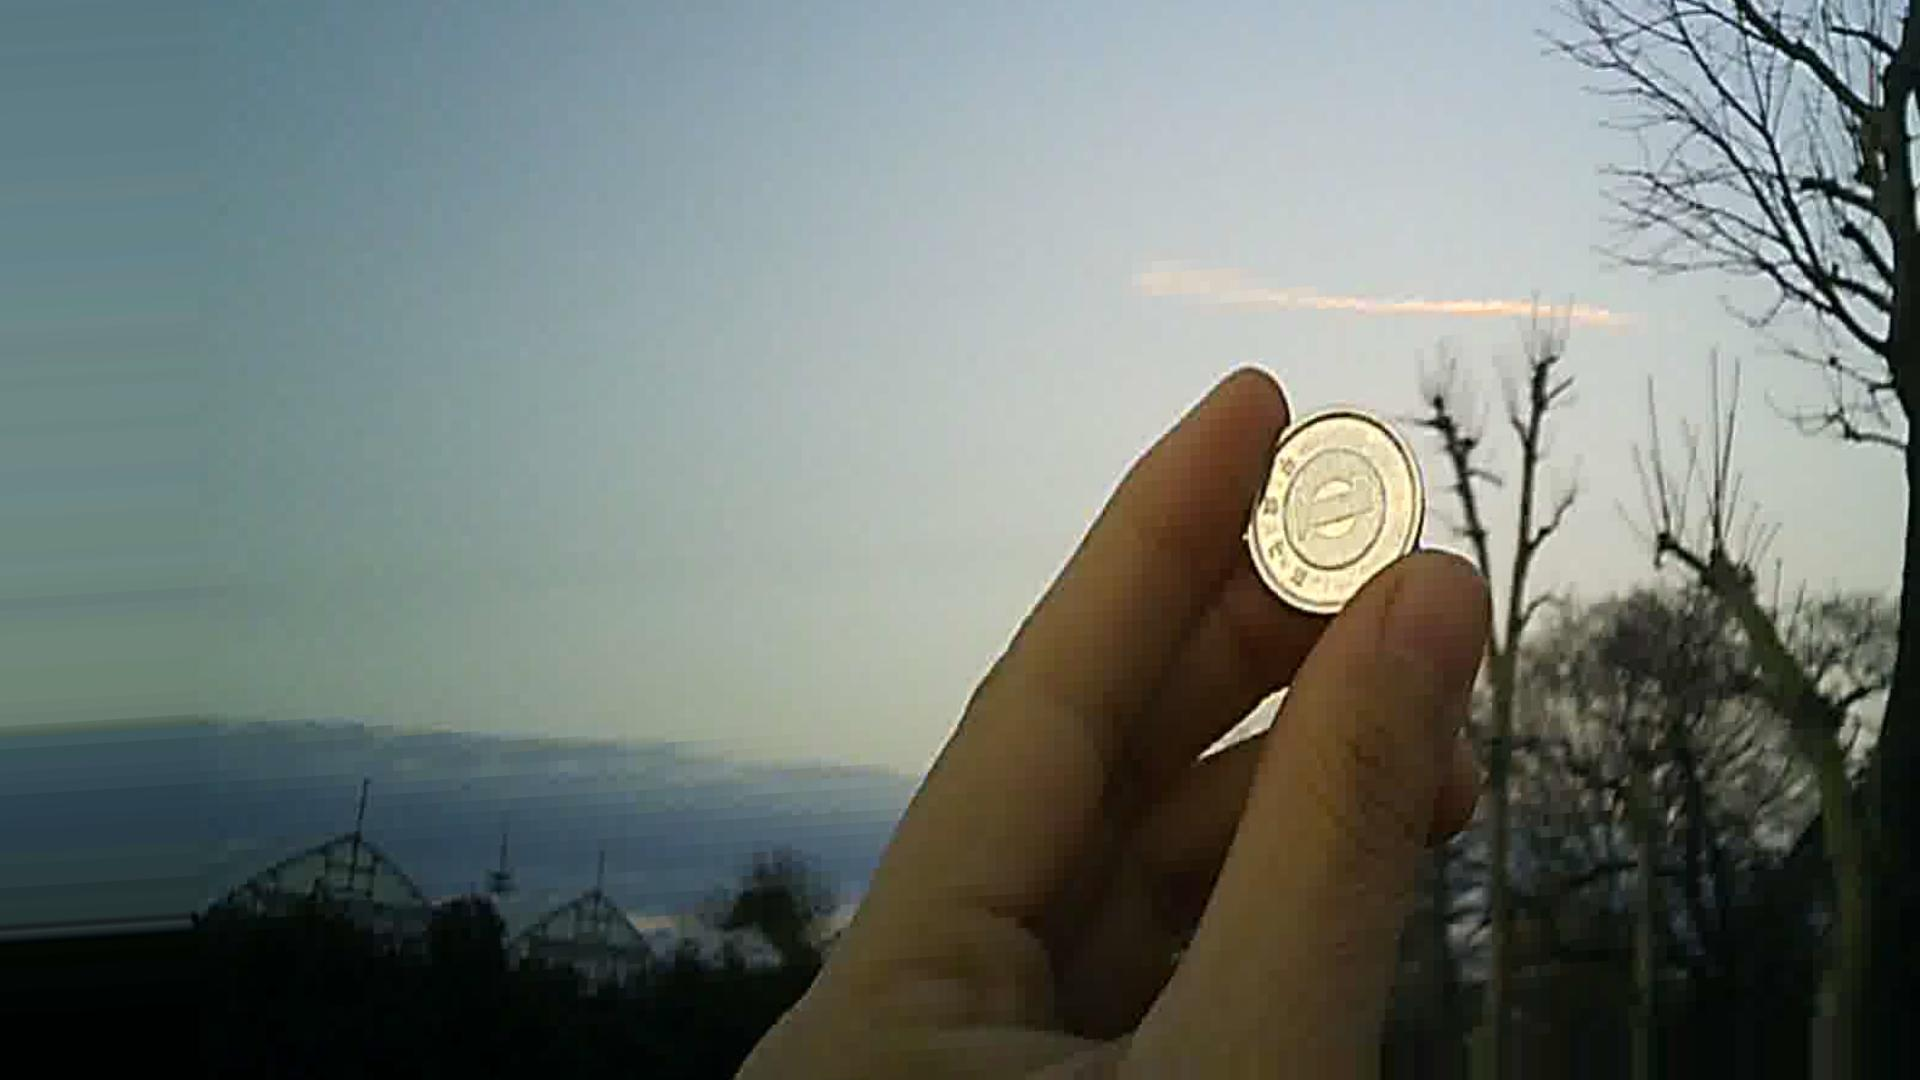1 Yen: (1238, 402, 1418, 611)
